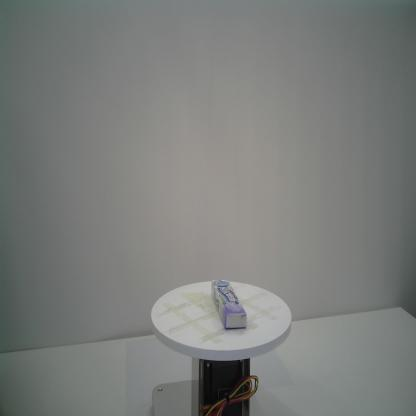Candy: (211, 279, 247, 330)
